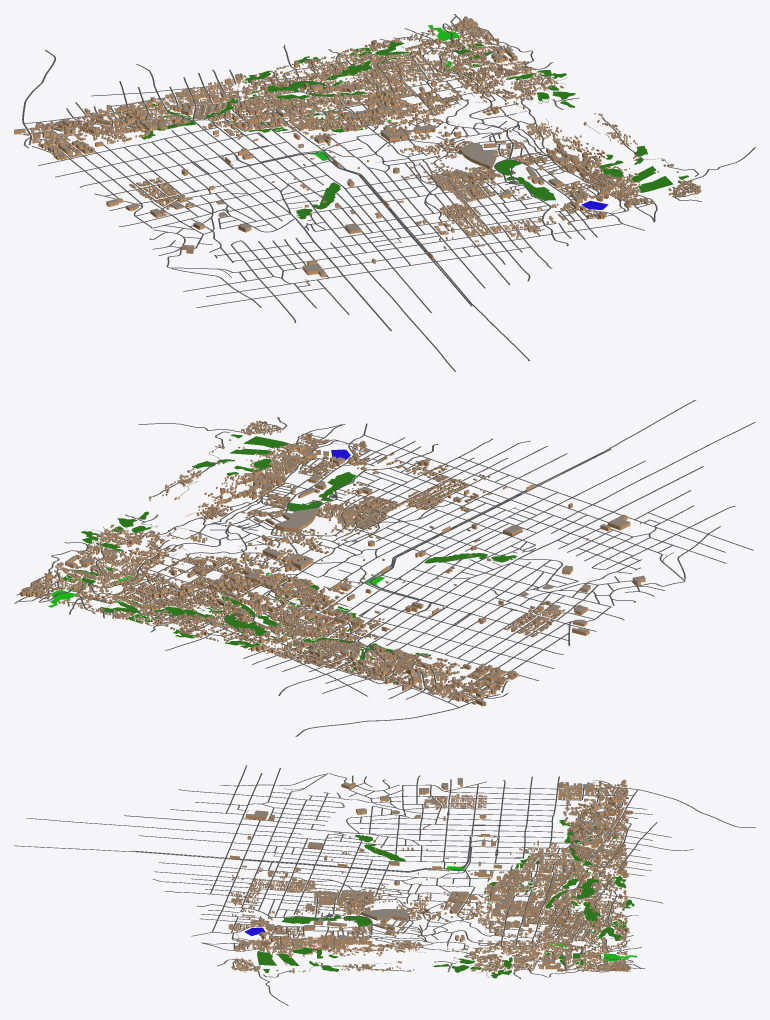
File: otro .fbx
3 views of the same model, one above another, from view 1: azimuth 30°, elevation 25°; view 2: azimuth 150°, elevation 25°; view 3: azimuth 270°, elevation 25° (orthographic). The views are drawn at different scales.
Visible parts, largest first — view 1: map_22.osm_buildings, map_22.osm_roads_residential, map_22.osm_forest, map_22.osm_roads_tertiary, map_22.osm_roads_secondary, map_22.osm_roads_pedestrian; view 2: map_22.osm_buildings, map_22.osm_roads_residential, map_22.osm_forest, map_22.osm_roads_tertiary, map_22.osm_roads_secondary, map_22.osm_roads_pedestrian; view 3: map_22.osm_buildings, map_22.osm_roads_residential, map_22.osm_forest, map_22.osm_roads_tertiary, map_22.osm_roads_secondary, map_22.osm_roads_pedestrian, map_22.osm_roads_service, map_22.osm_roads_unclassified.
Boxes of the visible parts, x1,y1,x2,y2 form: map_22.osm_buildings: (14,16,701,277); map_22.osm_roads_residential: (23,16,755,371); map_22.osm_forest: (98,26,688,219); map_22.osm_roads_tertiary: (24,14,644,312); map_22.osm_roads_secondary: (22,24,568,330); map_22.osm_roads_pedestrian: (113,46,529,360); map_22.osm_buildings: (20,420,645,706); map_22.osm_roads_residential: (17,417,755,703); map_22.osm_forest: (34,434,516,675); map_22.osm_roads_tertiary: (14,423,720,707); map_22.osm_roads_secondary: (40,444,703,736); map_22.osm_roads_pedestrian: (116,400,696,638); map_22.osm_buildings: (228,778,632,972); map_22.osm_roads_residential: (26,765,671,1005); map_22.osm_forest: (257,808,634,978); map_22.osm_roads_tertiary: (138,773,693,978); map_22.osm_roads_secondary: (124,782,755,961); map_22.osm_roads_pedestrian: (14,787,623,931); map_22.osm_roads_service: (226,784,623,966); map_22.osm_roads_unclassified: (226,875,627,953).
Size of the model in its own units: 302595 by 2235 by 394580.
